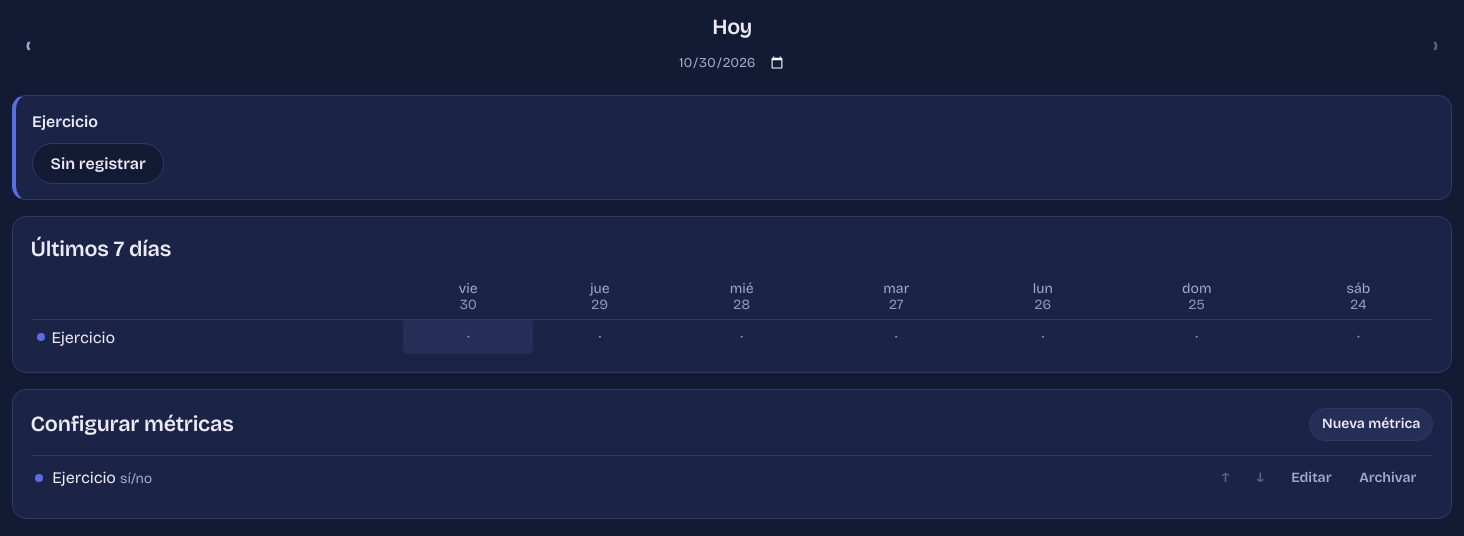
Test case: MetricsComponent › sí/no alterna "Sin registrar" → "Sí" → "No" (US5-5)
Click the button with class "bool". click: [98, 164]
box: [32, 143, 164, 184]
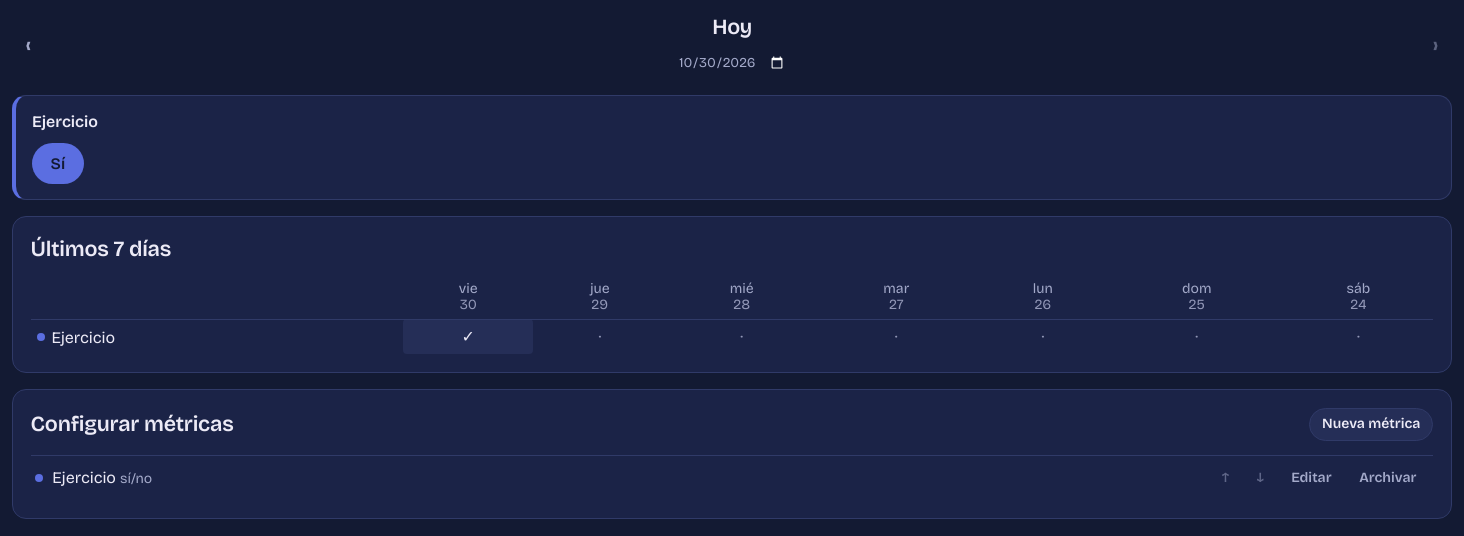
Expected: the button with class "bool" reads "Sí"
Click the button with class "bool". click: [58, 164]
box: [32, 143, 84, 184]
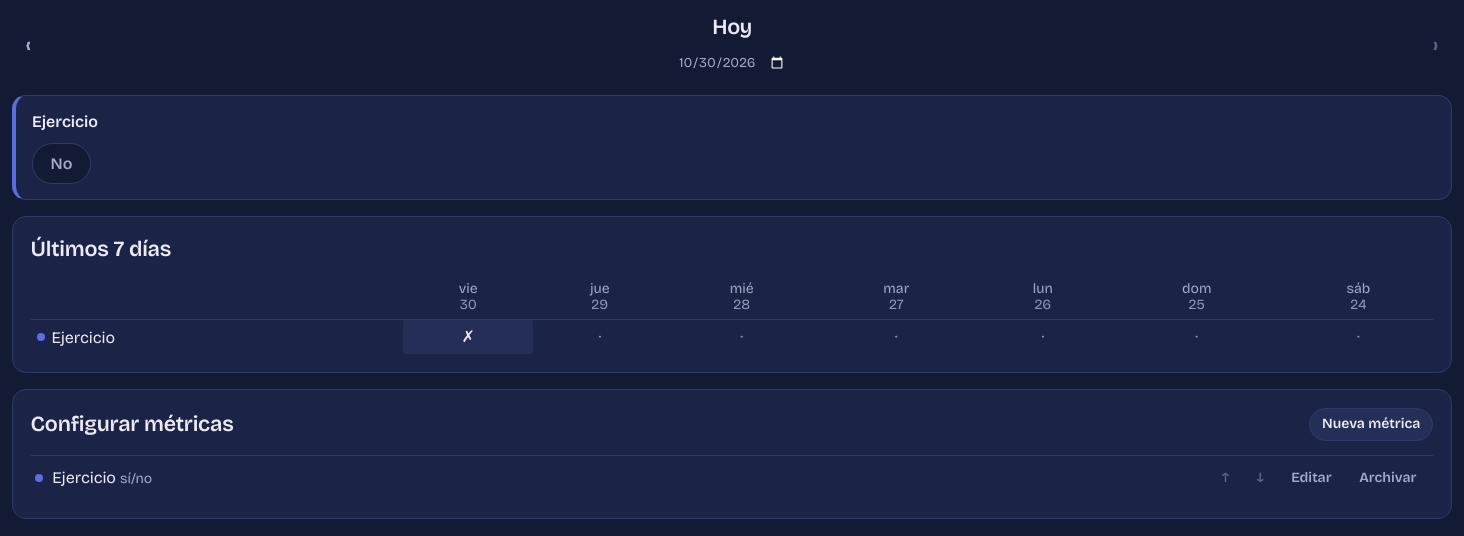
Expected: the button with class "bool" reads "No", [32, 143, 91, 184]
